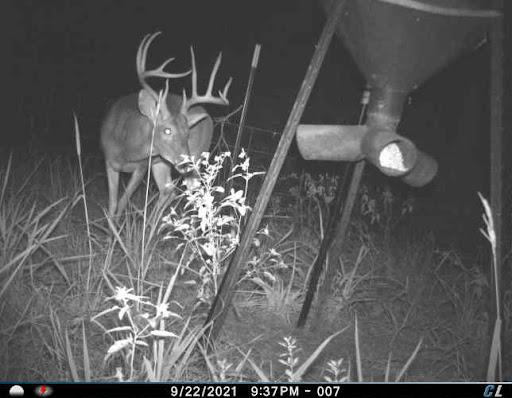Deer: (98, 25, 239, 239)
